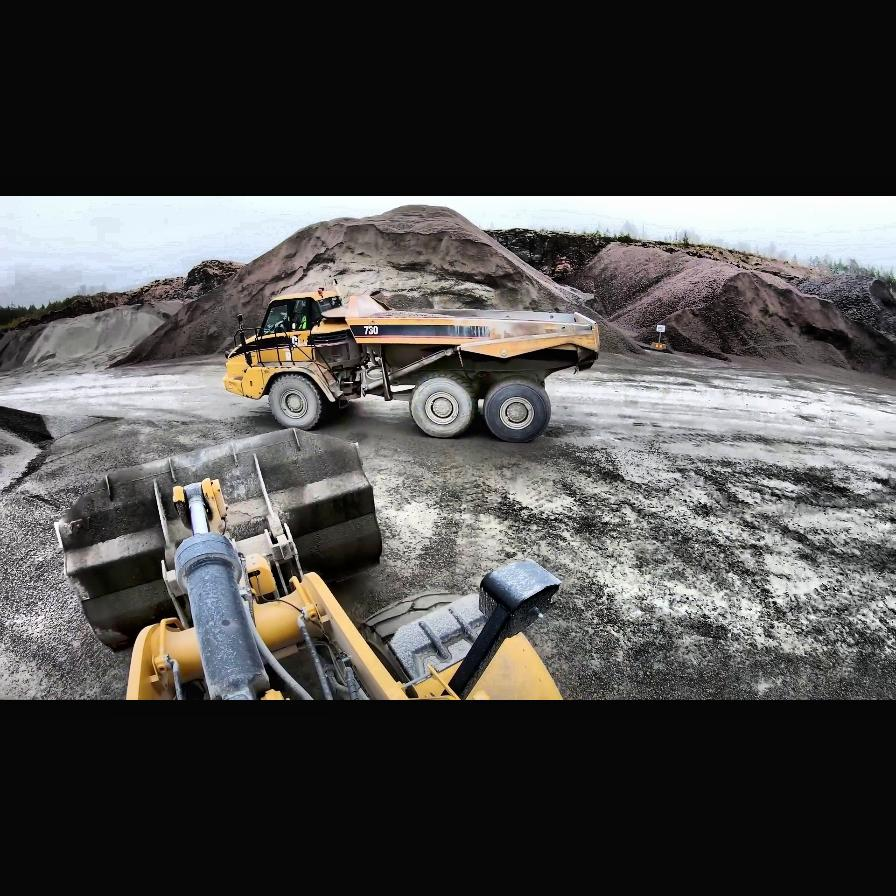anchor: (174, 479, 228, 539)
pile of gravel: (108, 204, 648, 372), (580, 238, 896, 378), (3, 302, 178, 376)
